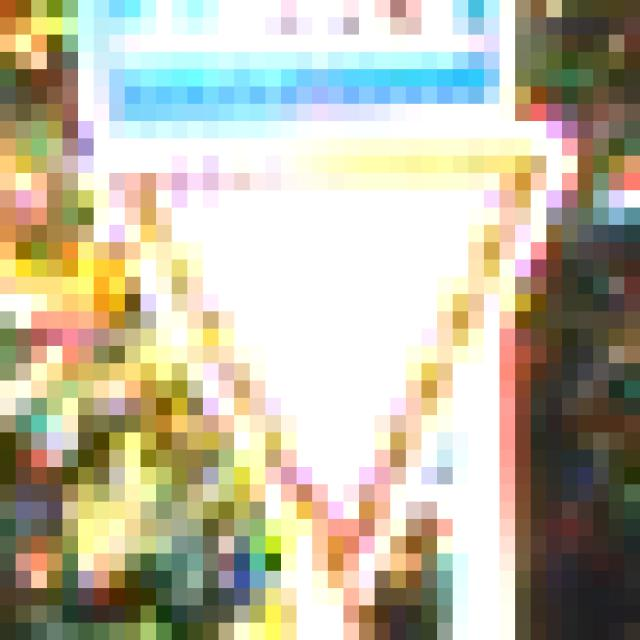Give Way: (95, 88, 563, 555)
